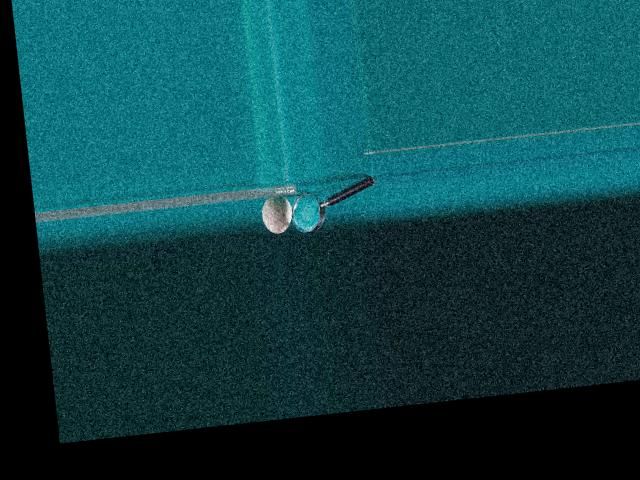egg: (259, 193, 294, 235)
